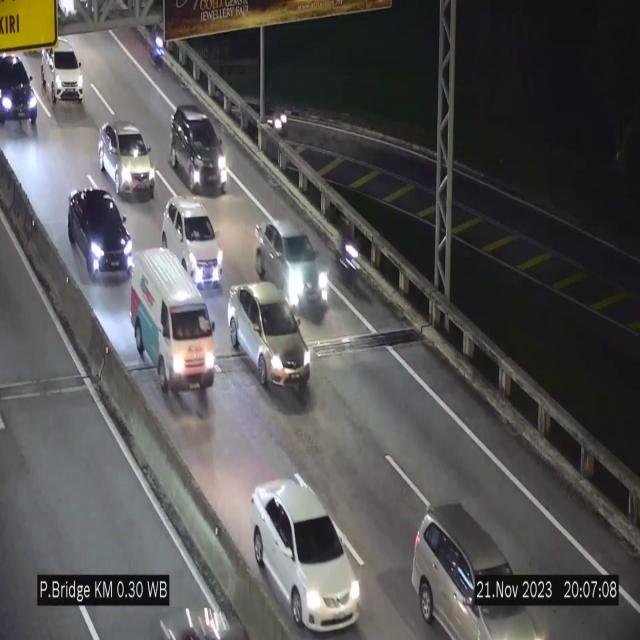Car: (252, 477, 360, 628), (131, 249, 215, 411), (228, 283, 310, 389), (257, 219, 329, 321), (66, 183, 136, 285), (168, 105, 230, 202), (162, 198, 223, 288), (99, 122, 154, 198), (0, 43, 38, 129), (46, 38, 84, 111)
Motorcycle: (339, 220, 363, 300), (150, 27, 170, 69)
